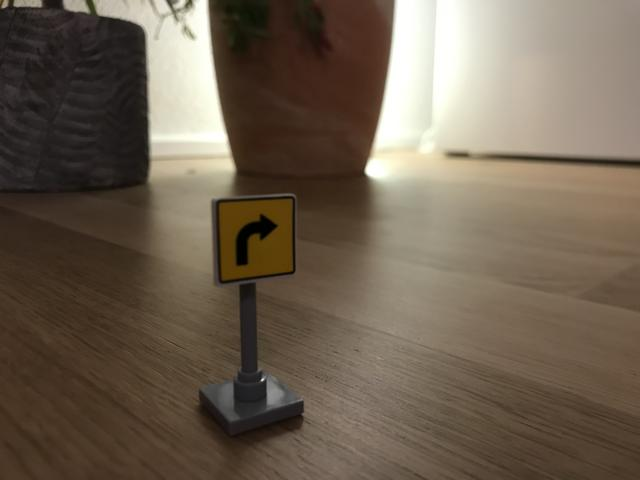fahrtrichtung rechts: (213, 194, 298, 286)
